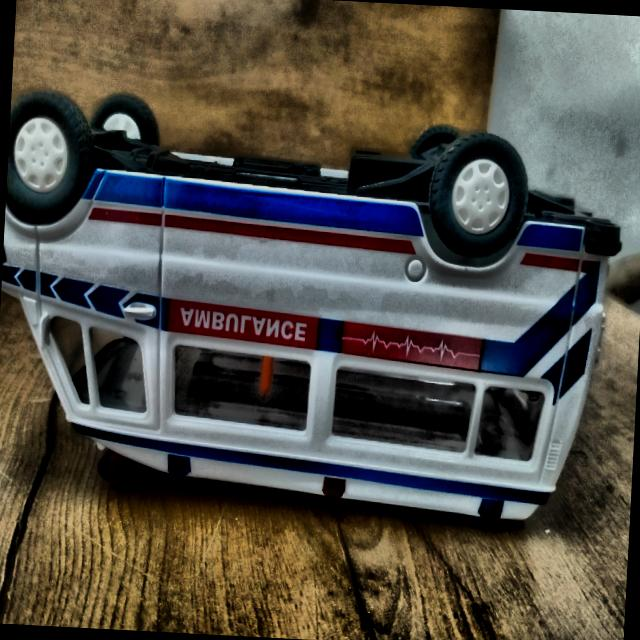Ambulance: (0, 83, 639, 551)
